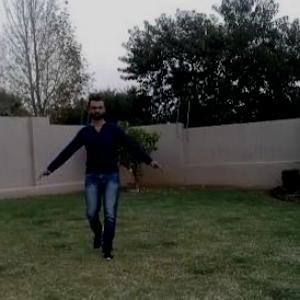land: (25, 83, 170, 274)
